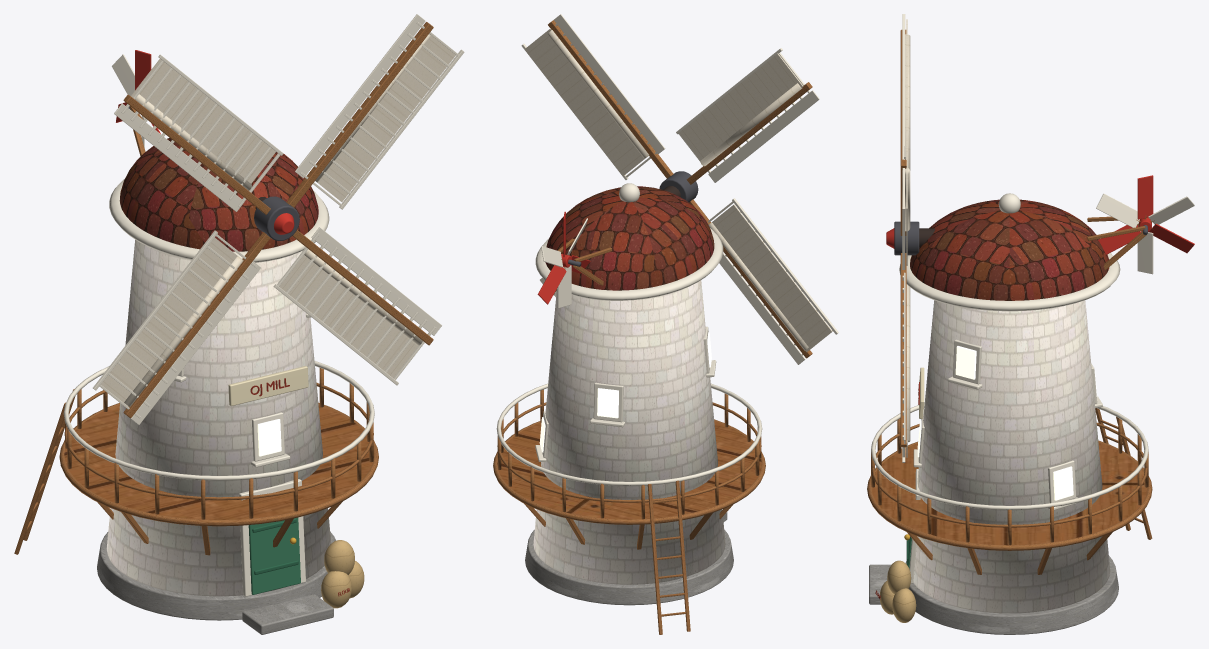
File: windmill.glb
3 views of the same model, side by side, from view 1: azimuth 30°, elevation 25°; view 2: azimuth 150°, elevation 25°; view 3: azimuth 270°, elevation 25° (orthographic). The views are drawn at different scales.
Visible parts, largest first — view 1: ml_tower, ml_capdome, ml_stage, ml_plinth, ml_cloth, ml_cloth.002, ml_cloth.003, ml_cloth.001, ml_door, ml_stage_edge, ml_rail, ml_capskirt (+26 smaller); view 2: ml_tower, ml_capdome, ml_stage, ml_cloth.002, ml_plinth, ml_cloth.003, ml_cloth, ml_capskirt, ml_rail, ml_stage_edge, ml_leadboard, ml_leadboard.003 (+16 smaller); view 3: ml_tower, ml_capdome, ml_stage, ml_plinth, ml_capskirt, ml_stage_edge, ml_rail, ml_rail_mid, ml_whip.001, ml_furl.003, ml_furl.001, ml_fanblade.005 (+14 smaller).
Boxes of the visible parts, left/top/right/bottom form: ml_tower: left=106, top=239, right=331, bottom=596; ml_capdome: left=119, top=138, right=318, bottom=251; ml_stage: left=64, top=404, right=374, bottom=519; ml_plinth: left=97, top=532, right=335, bottom=620; ml_cloth: left=317, top=34, right=455, bottom=201; ml_cloth.002: left=99, top=237, right=237, bottom=405; ml_cloth.003: left=131, top=59, right=275, bottom=183; ml_cloth.001: left=279, top=255, right=417, bottom=377; ml_door: left=248, top=517, right=300, bottom=594; ml_stage_edge: left=59, top=402, right=378, bottom=526; ml_rail: left=63, top=361, right=374, bottom=480; ml_capskirt: left=109, top=179, right=329, bottom=262; ml_tower: left=533, top=280, right=725, bottom=584; ml_capdome: left=545, top=186, right=714, bottom=290; ml_stage: left=497, top=421, right=761, bottom=519; ml_cloth.002: left=712, top=204, right=832, bottom=352; ml_plinth: left=525, top=530, right=733, bottom=605; ml_cloth.003: left=679, top=53, right=803, bottom=160; ml_cloth: left=524, top=28, right=644, bottom=175; ml_capskirt: left=535, top=228, right=723, bottom=300; ml_rail: left=496, top=383, right=762, bottom=485; ml_stage_edge: left=493, top=419, right=765, bottom=524; ml_leadboard: left=554, top=14, right=665, bottom=154; ml_leadboard.003: left=708, top=90, right=819, bottom=182; ml_tower: left=913, top=300, right=1110, bottom=613; ml_capdome: left=910, top=199, right=1109, bottom=300; ml_stage: left=871, top=442, right=1148, bottom=545; ml_plinth: left=905, top=556, right=1118, bottom=634; ml_capskirt: left=899, top=253, right=1120, bottom=311; ml_stage_edge: left=867, top=440, right=1152, bottom=550; ml_rail: left=871, top=403, right=1148, bottom=509; ml_rail_mid: left=871, top=422, right=1147, bottom=527; ml_whip.001: left=900, top=253, right=906, bottom=447; ml_furl.003: left=905, top=34, right=910, bottom=170; ml_furl.001: left=906, top=284, right=910, bottom=442; ml_fanblade.005: left=1096, top=193, right=1139, bottom=227.
Size of the model in its own units: 7.6 by 11.55 by 6.52.
17 materials, 7 textured.
